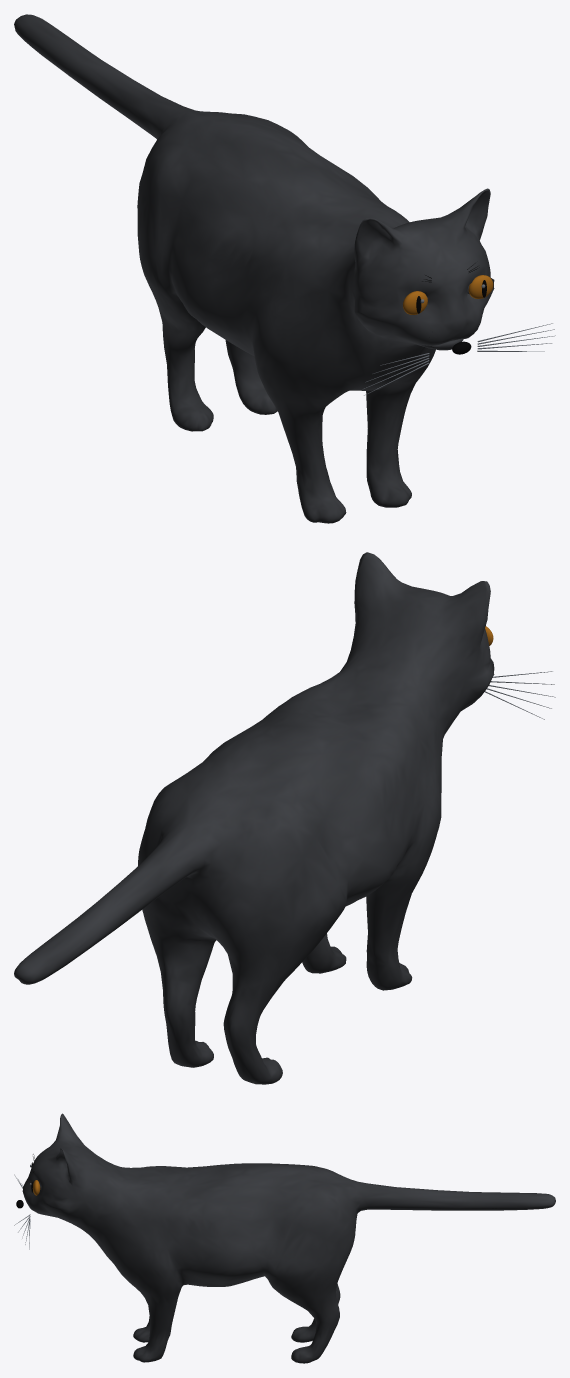
Rendered from Kira_model.obj.
The picture shows the model from 3 angles, top to bottom: view 1: azimuth 30°, elevation 25°; view 2: azimuth 150°, elevation 25°; view 3: azimuth 270°, elevation 25°; orthographic projection. The views are drawn at different scales.
Parts seen in each view (by area): view 1: Kira; view 2: Kira; view 3: Kira.
Boxes of the visible parts, <box> form: Kira: <box>14,14,555,523</box>; Kira: <box>14,552,555,1084</box>; Kira: <box>14,1113,555,1363</box>.
Bounding box in the file's own units: 0.264 × 0.4509 × 1.01.
Materials: 4 (1 with a texture image).
